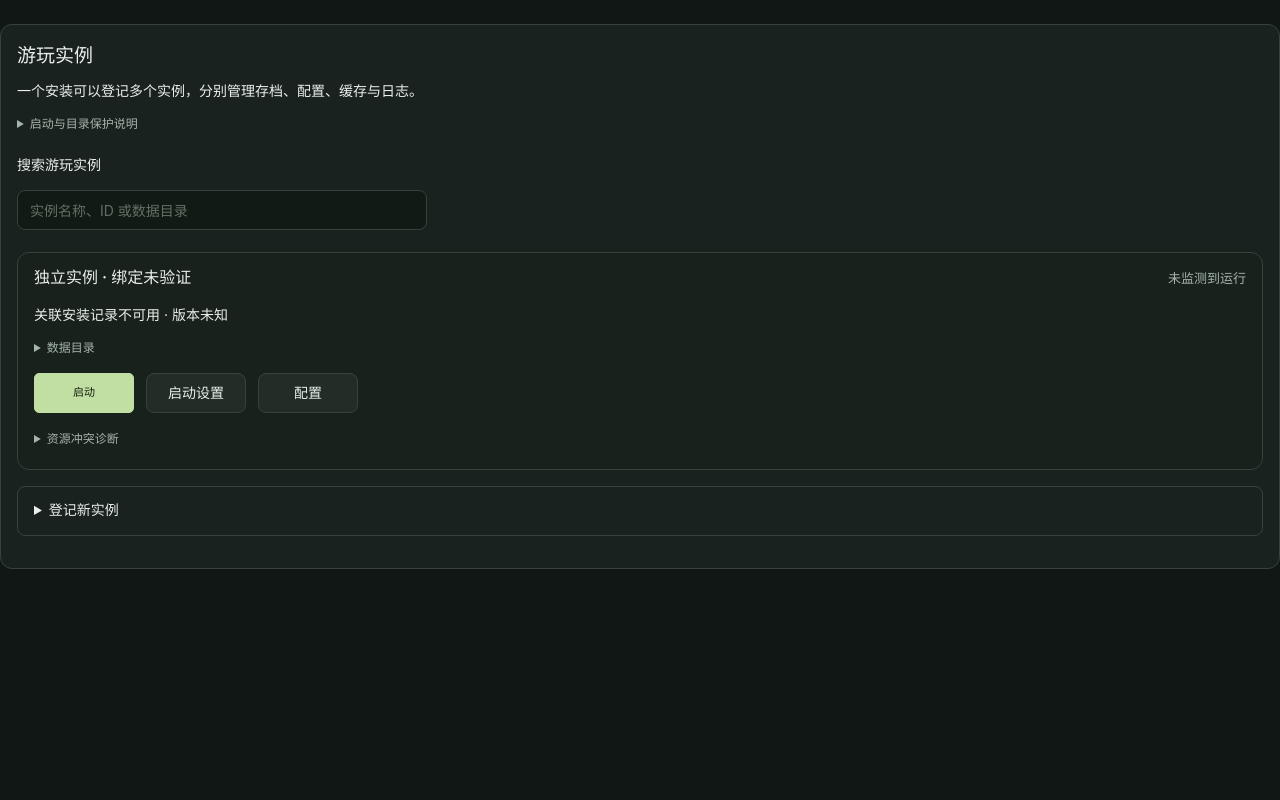
can inspect conflicts while launch is blocked without choosing a profile or launching
expect the button with aria-label "启动 独立实例" is enabled: met, box [34,373,134,413]
Click the heading "资源冲突诊断".
click(83, 439)  # box [47,431,119,446]
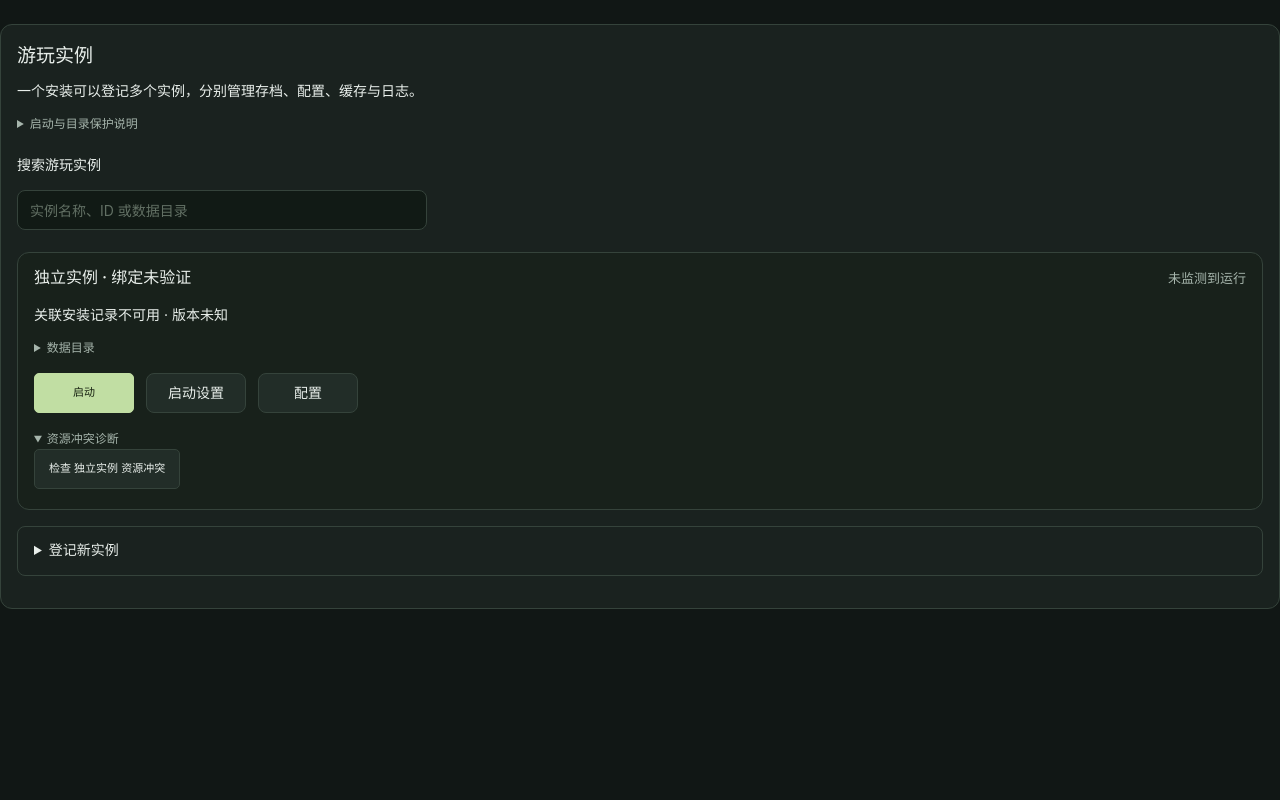
Click the button "检查 独立实例 资源冲突".
click(107, 468)  # box [34,448,180,488]
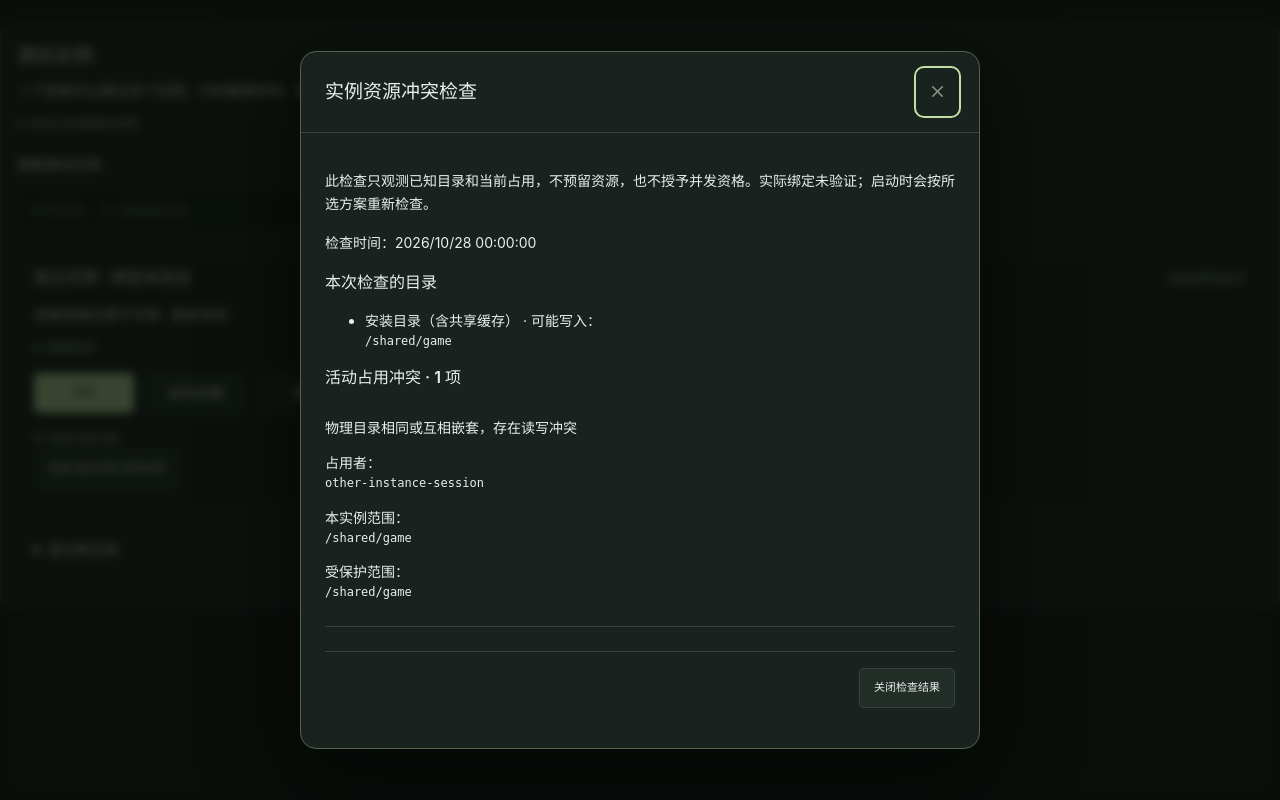
expect the text "物理目录相同或互相嵌套，存在读写冲突" is shown: met, box [325,419,577,436]
expect the text "other-instance-session" is shown: met, box [325,476,484,490]
expect the text "此检查只观测已知目录和当前占用，不预留资源，也不授予并发资格。实际绑定未验证；启动时会按所选方案重新检查。" is shown: met, box [325,169,955,215]
Click the button "关闭检查结果".
click(907, 688)  # box [859,668,955,708]
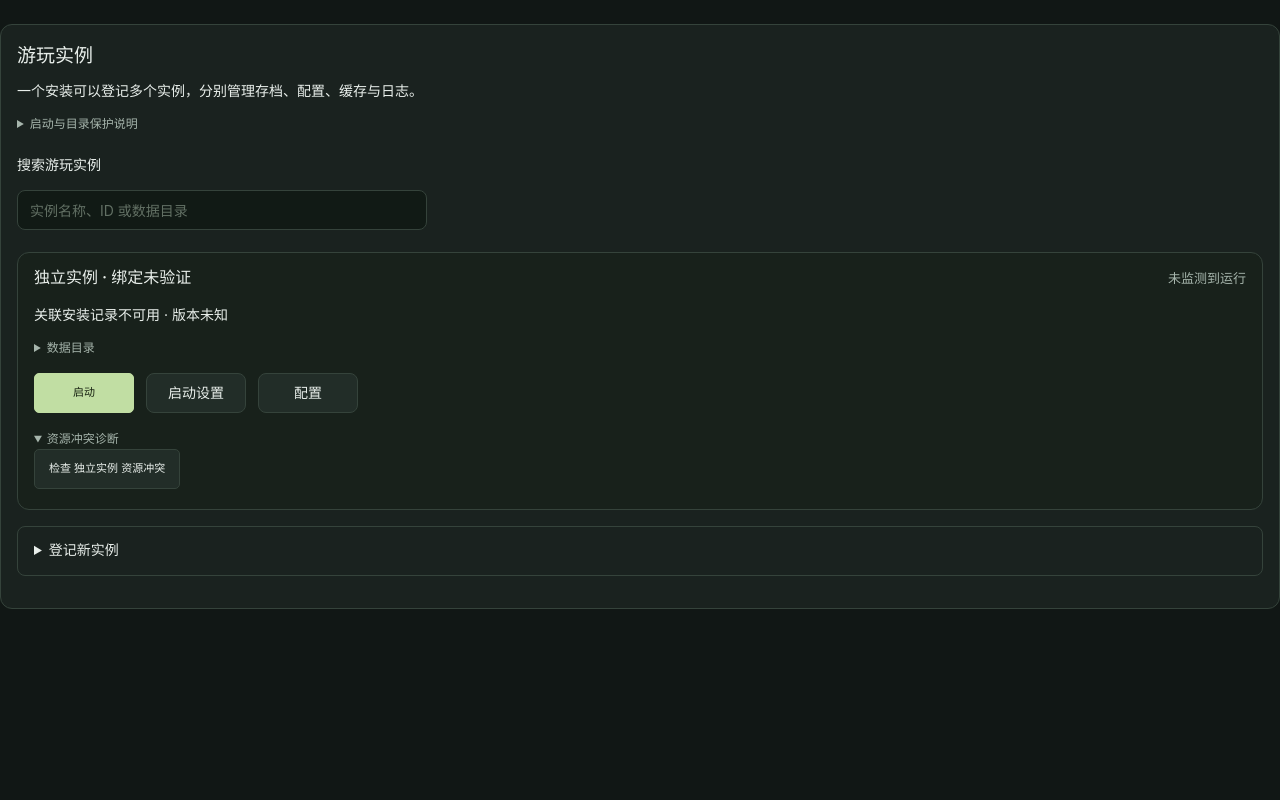
expect the dialog is gone: met
Click the button "检查 独立实例 资源冲突".
click(107, 468)  # box [34,448,180,488]
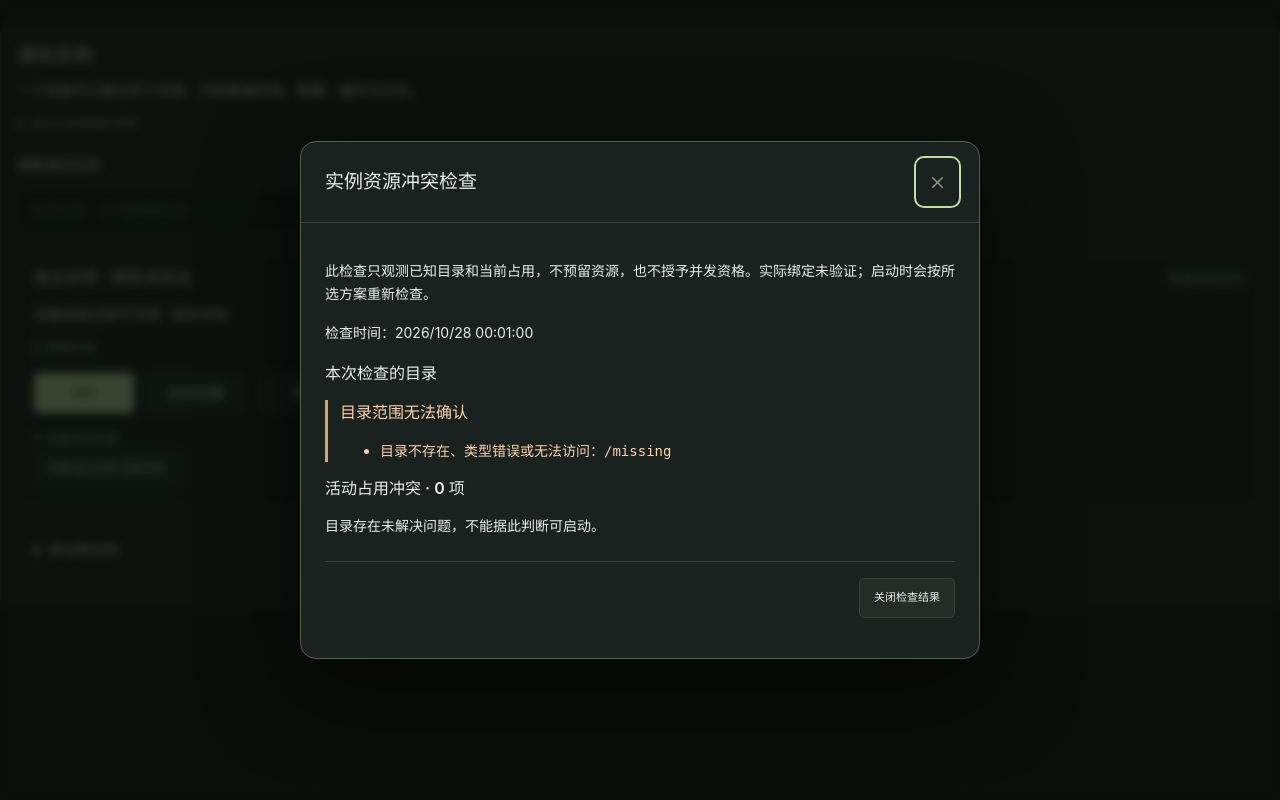
expect the text "other-instance-session" is not shown: met
expect the text "目录存在未解决问题，不能据此判断可启动。" is shown: met, box [325,517,605,534]
